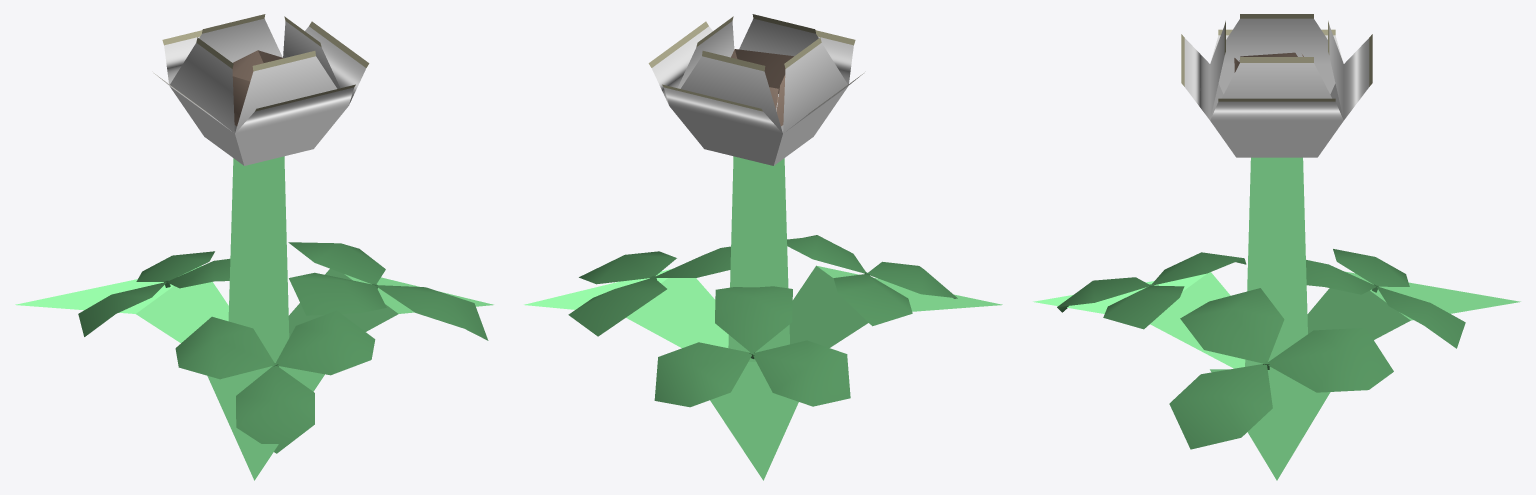
File: 03_whiteClover.fbx
The picture shows the model from 3 angles, left to right: view 1: azimuth 30°, elevation 25°; view 2: azimuth 150°, elevation 25°; view 3: azimuth 270°, elevation 25°; orthographic projection.
Parts seen in each view (by area): view 1: flower_purpleA4; view 2: flower_purpleA4; view 3: flower_purpleA4.
Boxes of the visible parts, x1=… form: flower_purpleA4: x1=15, y1=14, x2=493, y2=480; flower_purpleA4: x1=524, y1=14, x2=1002, y2=480; flower_purpleA4: x1=1033, y1=14, x2=1520, y2=480.
Size of the model in its own units: 2.04 by 1.72 by 2.3.
